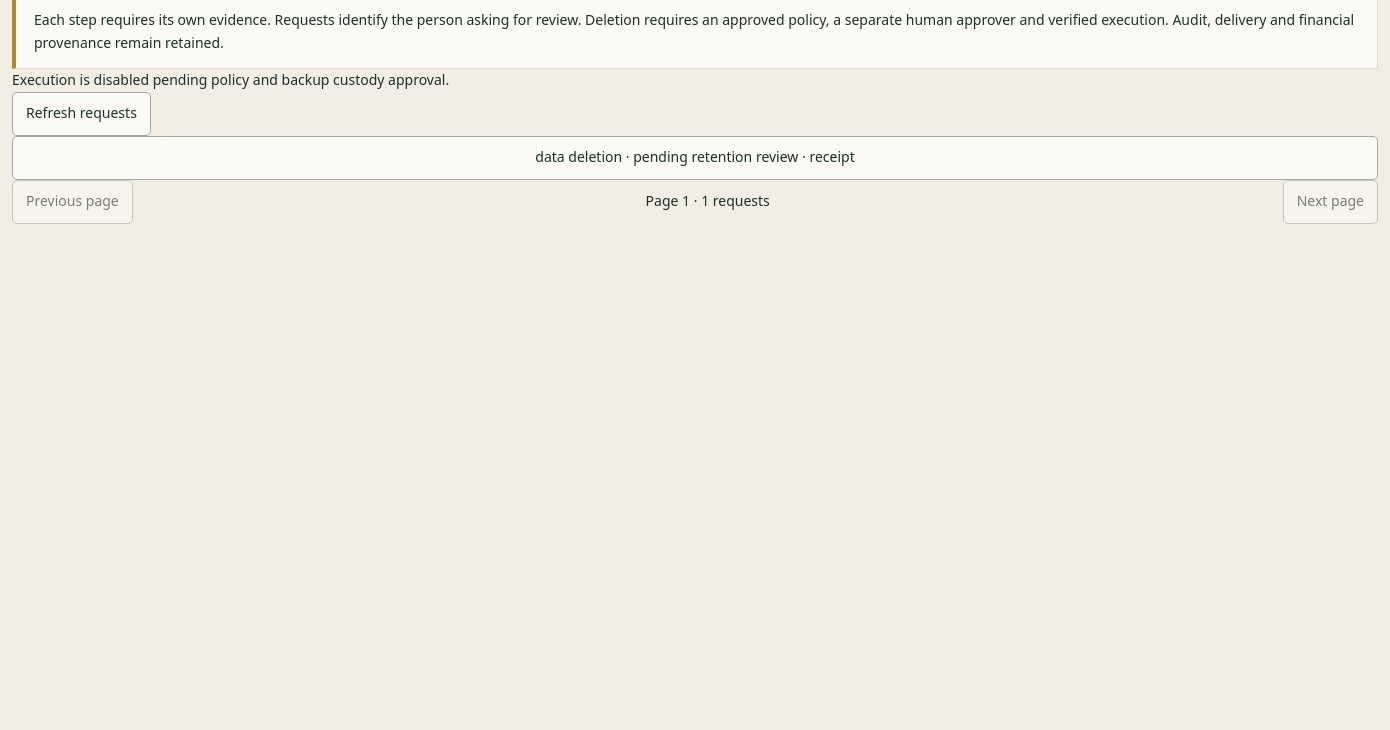
Test case: fresh current policy permits independent review, then a failed refresh holds decisions
The width and height of the screenshot is (1390, 730).
Click the button "data deletion · pending retention review · receipt" at (695, 158), box x1=12 y1=136 x2=1378 y2=180
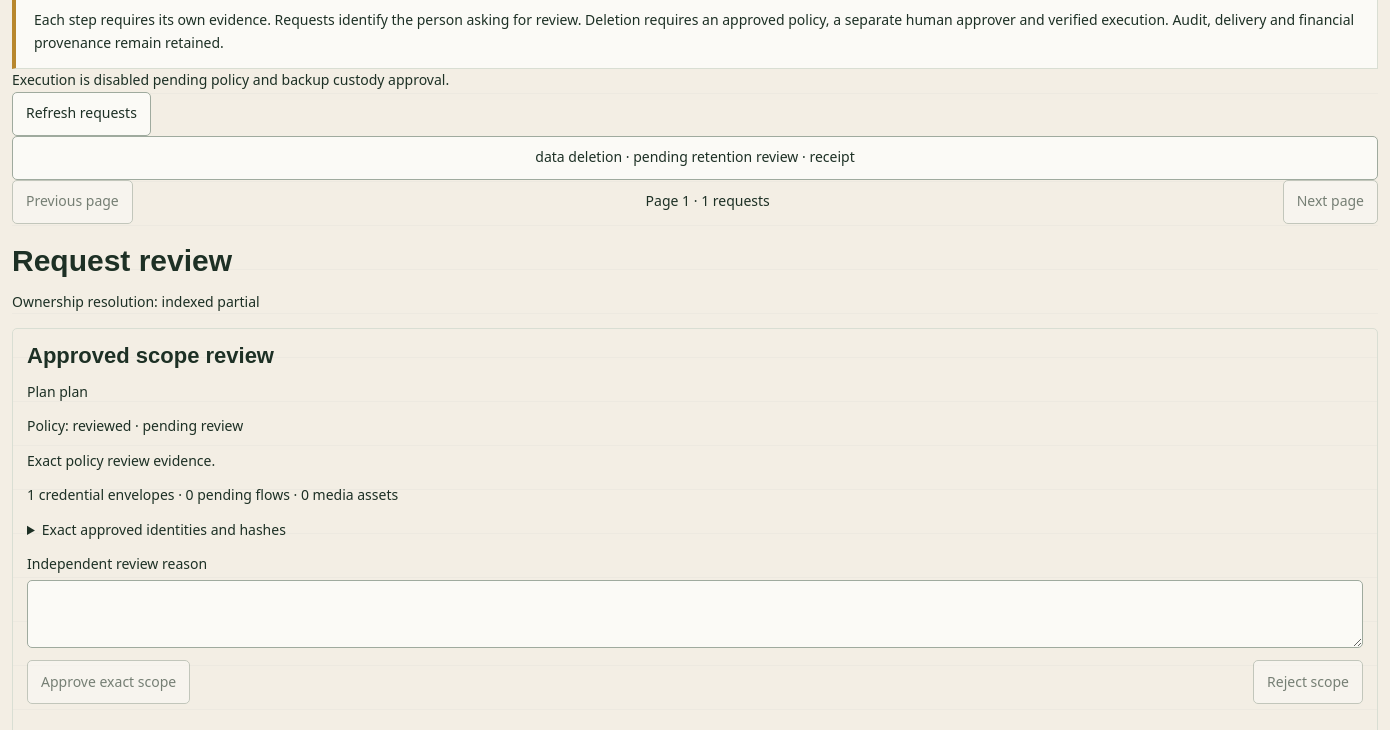
Type "Checked independent evidence." into the text box labelled "Independent review reason" at (695, 614), box x1=27 y1=580 x2=1363 y2=648
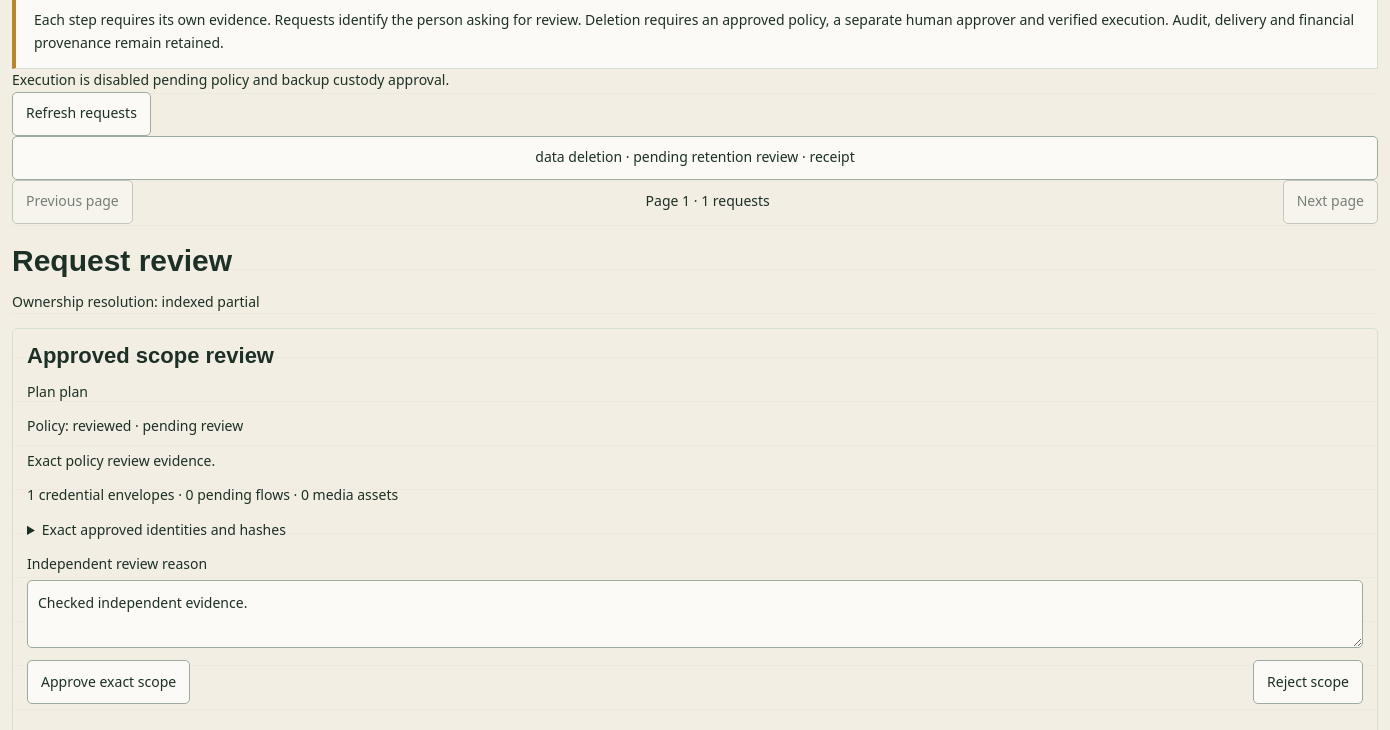
Expected: the button "Approve exact scope" is enabled, x1=27 y1=660 x2=190 y2=704
Click the button "Refresh requests" at (81, 114), box x1=12 y1=92 x2=151 y2=136
(page scrolled)
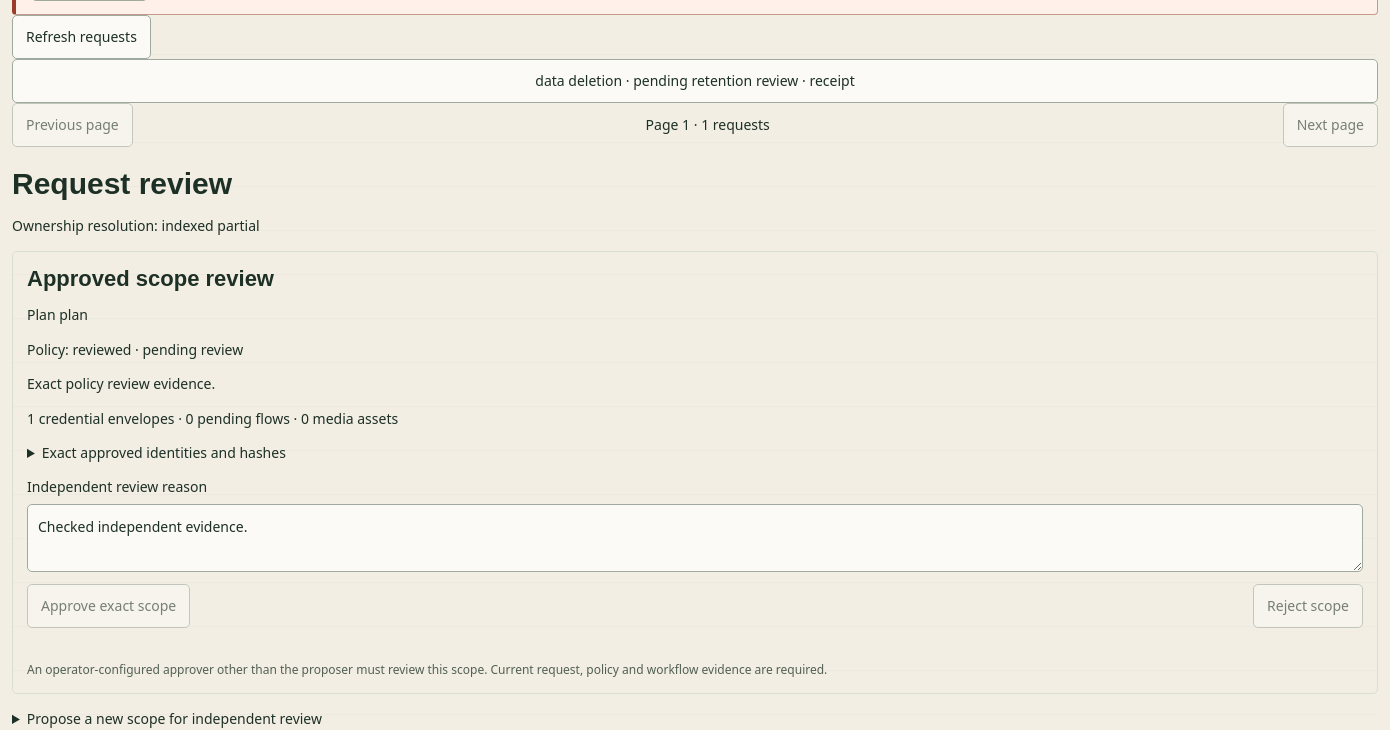
Expected: the button "Approve exact scope" is disabled, x1=27 y1=584 x2=190 y2=628
Expected: the button "Reject scope" is disabled, x1=1253 y1=584 x2=1363 y2=628
